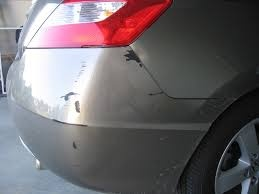Scratch: (60, 57, 91, 114), (123, 49, 141, 65), (71, 138, 81, 150)
